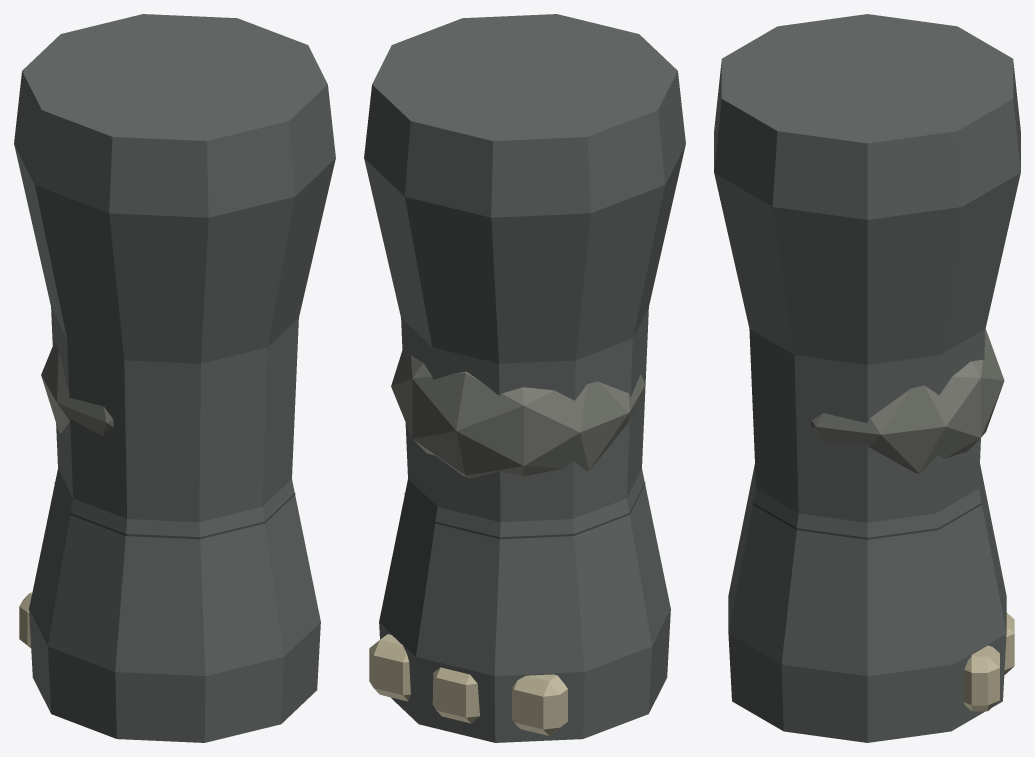
File: LegRearRight.glb
3 renders of one model, left to right at view 1: azimuth 30°, elevation 25°; view 2: azimuth 150°, elevation 25°; view 3: azimuth 270°, elevation 25°, orthographic.
Parts seen in each view (by area): view 1: Sculpture; view 2: Sculpture; view 3: Sculpture.
Part boxes in pixels (x1=…): Sculpture: x1=14, y1=14, x2=335, y2=742; Sculpture: x1=364, y1=14, x2=685, y2=742; Sculpture: x1=714, y1=14, x2=1020, y2=742.
Size of the model in its own units: 0.6 by 1.24 by 0.5706.
